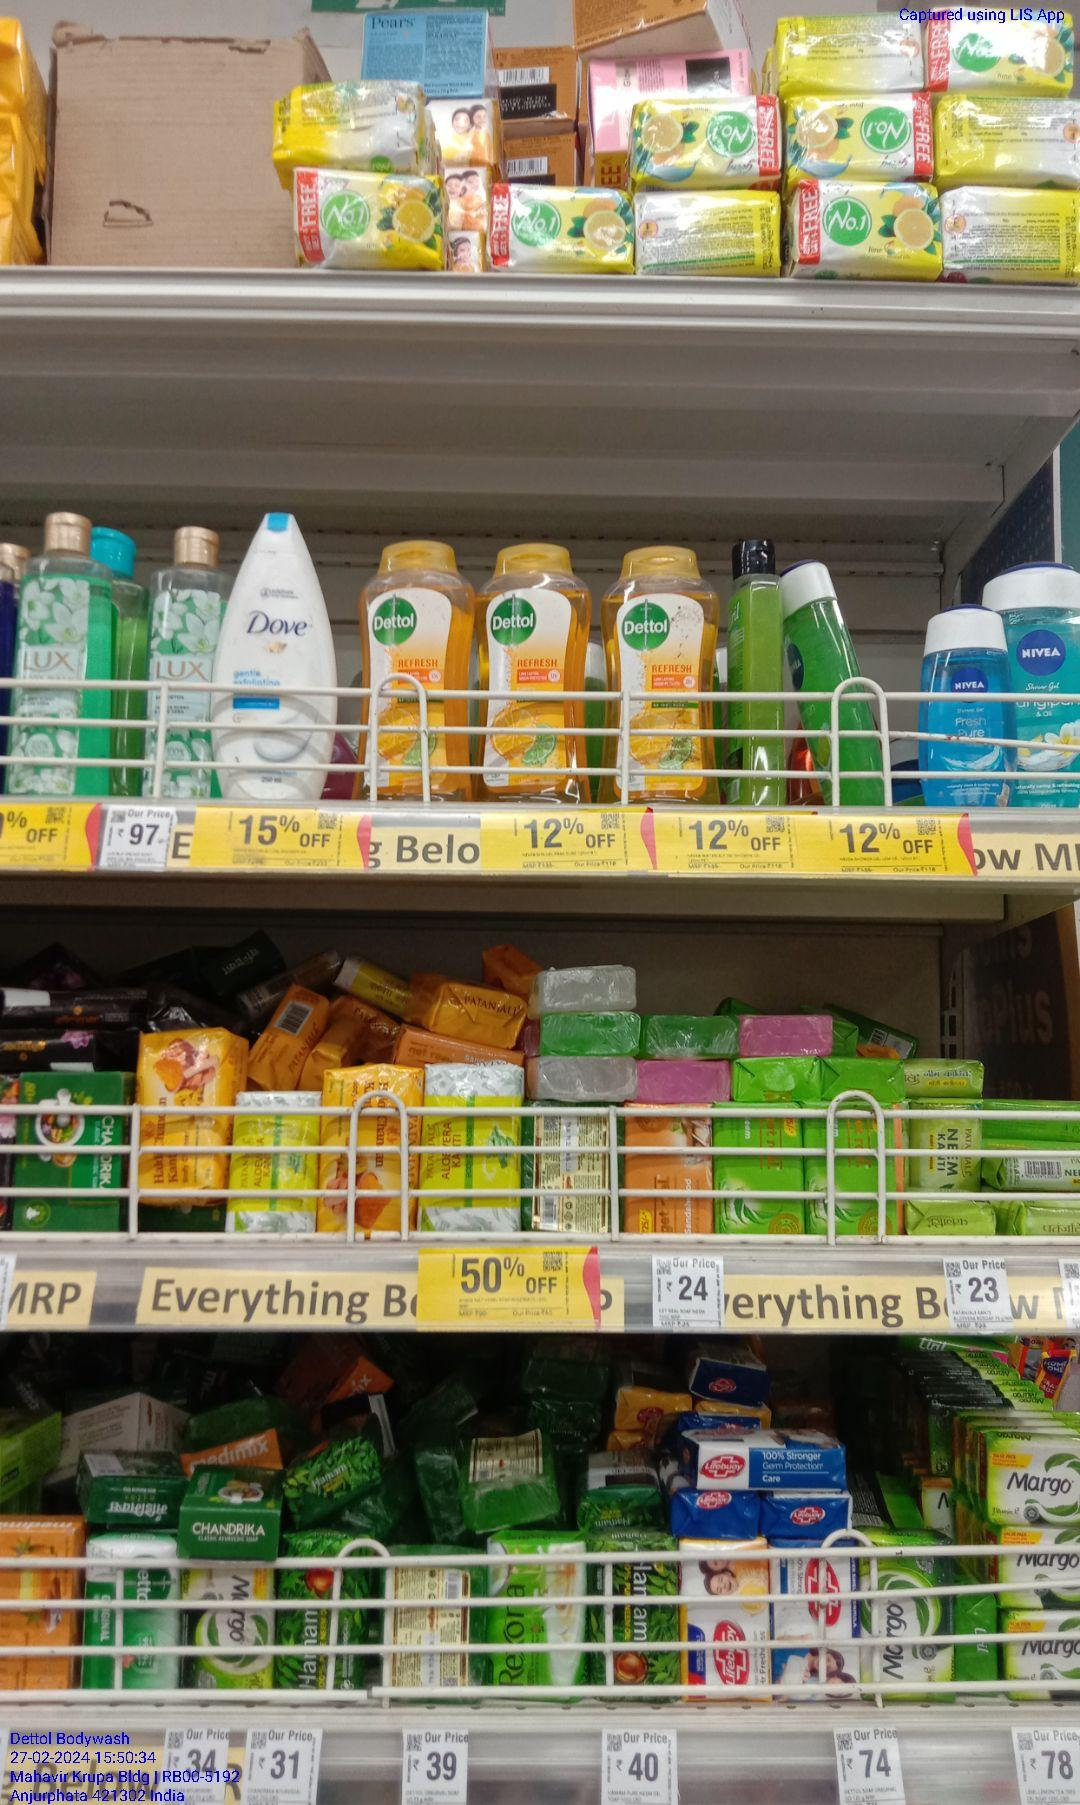Dettol_Bodywash_Refresh: (599, 543, 712, 806), (363, 539, 472, 805), (480, 537, 582, 805)
Dove_Gentle_Exfoliating_Body_Wash_250ML: (226, 508, 339, 806)
Lux_Body_Wash_Skin_Detox_Freesia_Scent_and_Alove_Vera_245ML: (15, 510, 96, 810), (143, 513, 224, 798)
Nivea_Shower_Gel_Frangipani_and_Oil_250ML: (1005, 559, 1080, 805)
